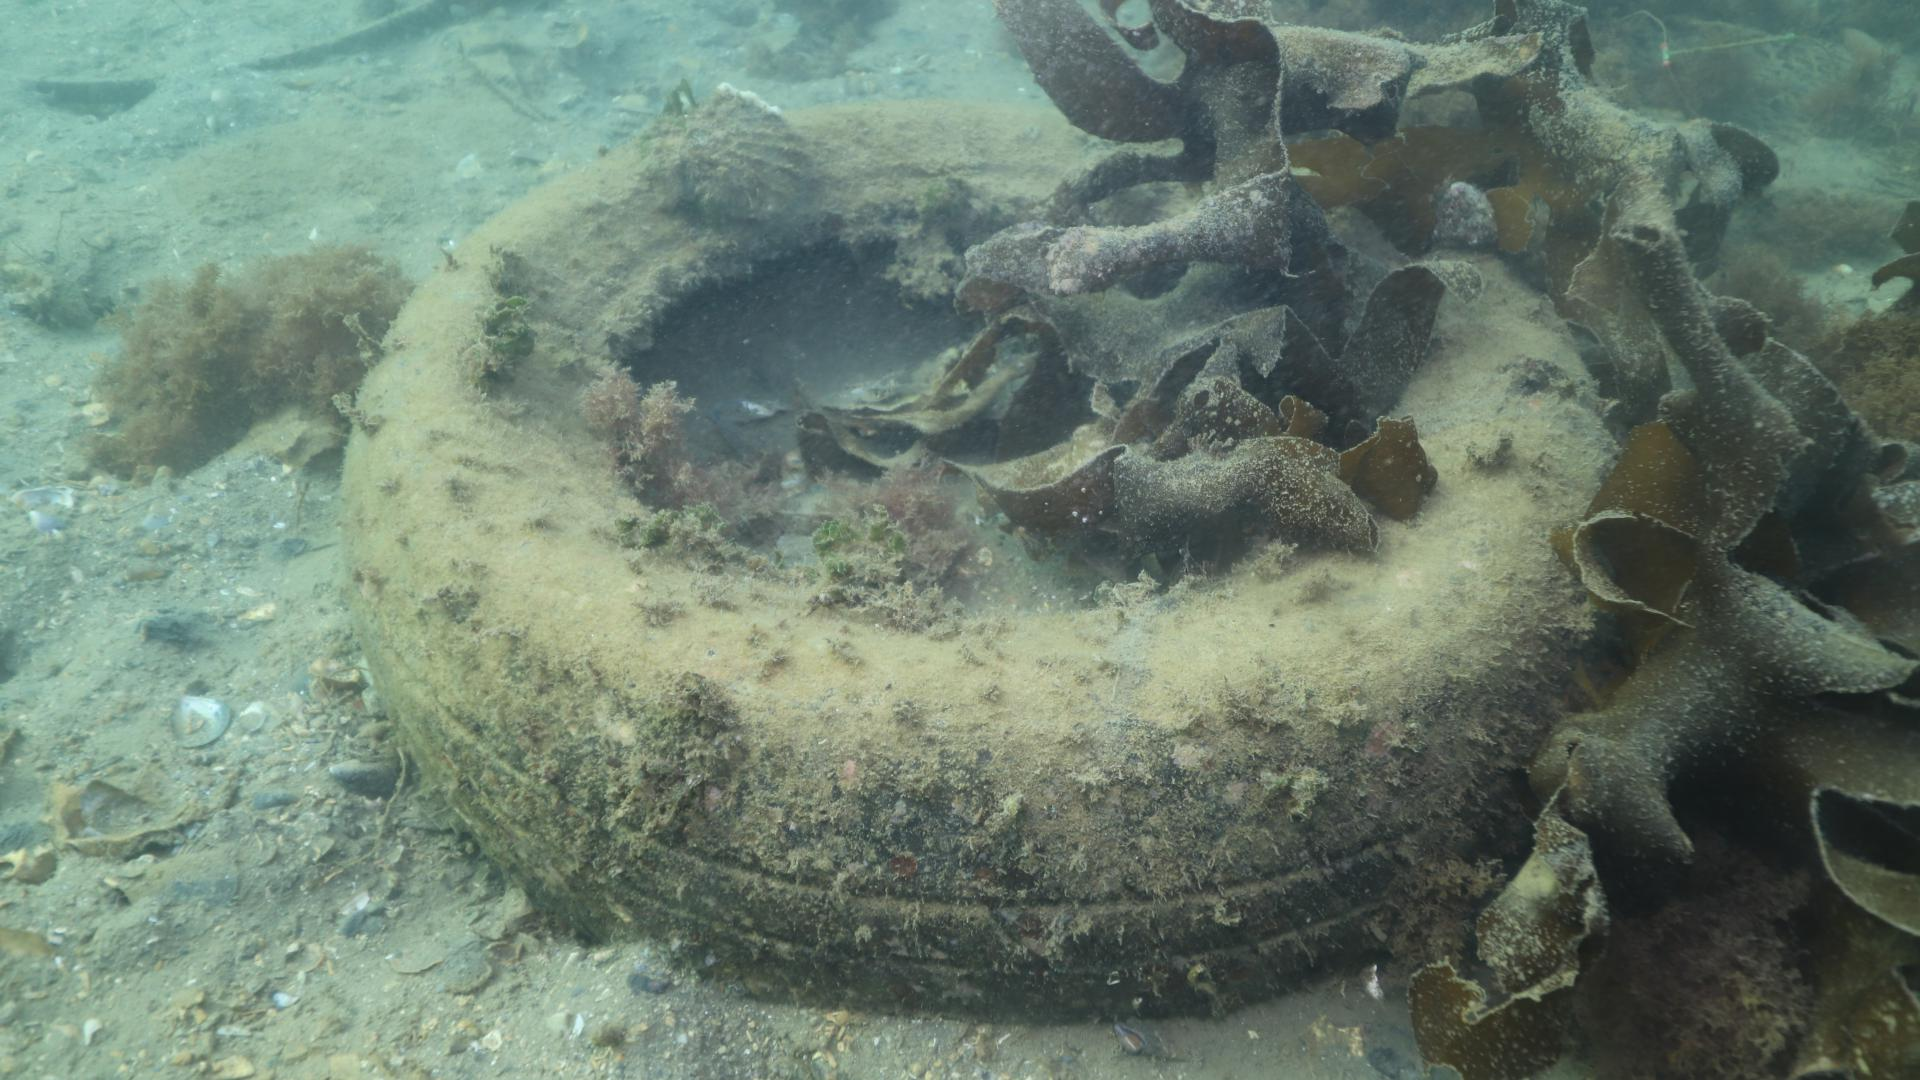tire: (338, 95, 1611, 1011)
